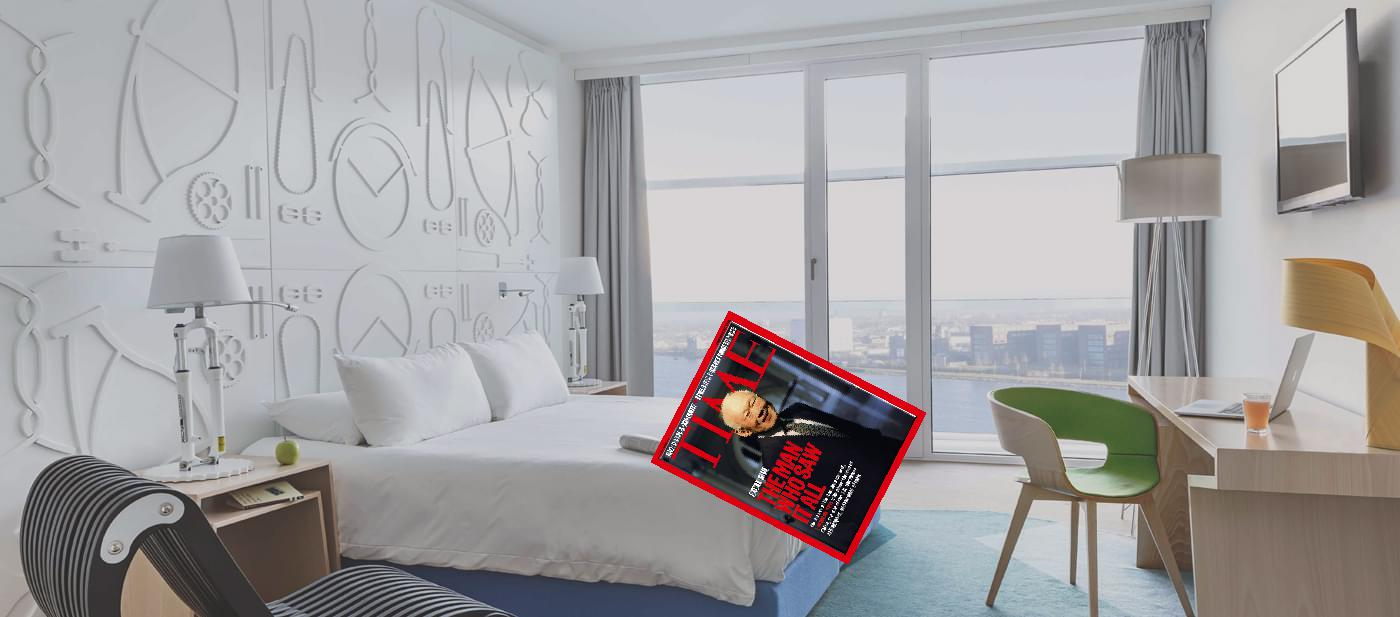times: (652, 307, 924, 567)
